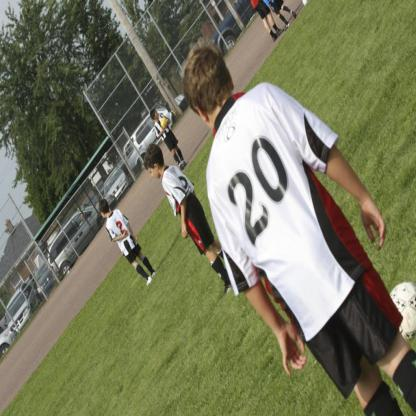face: (147, 163, 161, 179), (154, 110, 160, 118)
